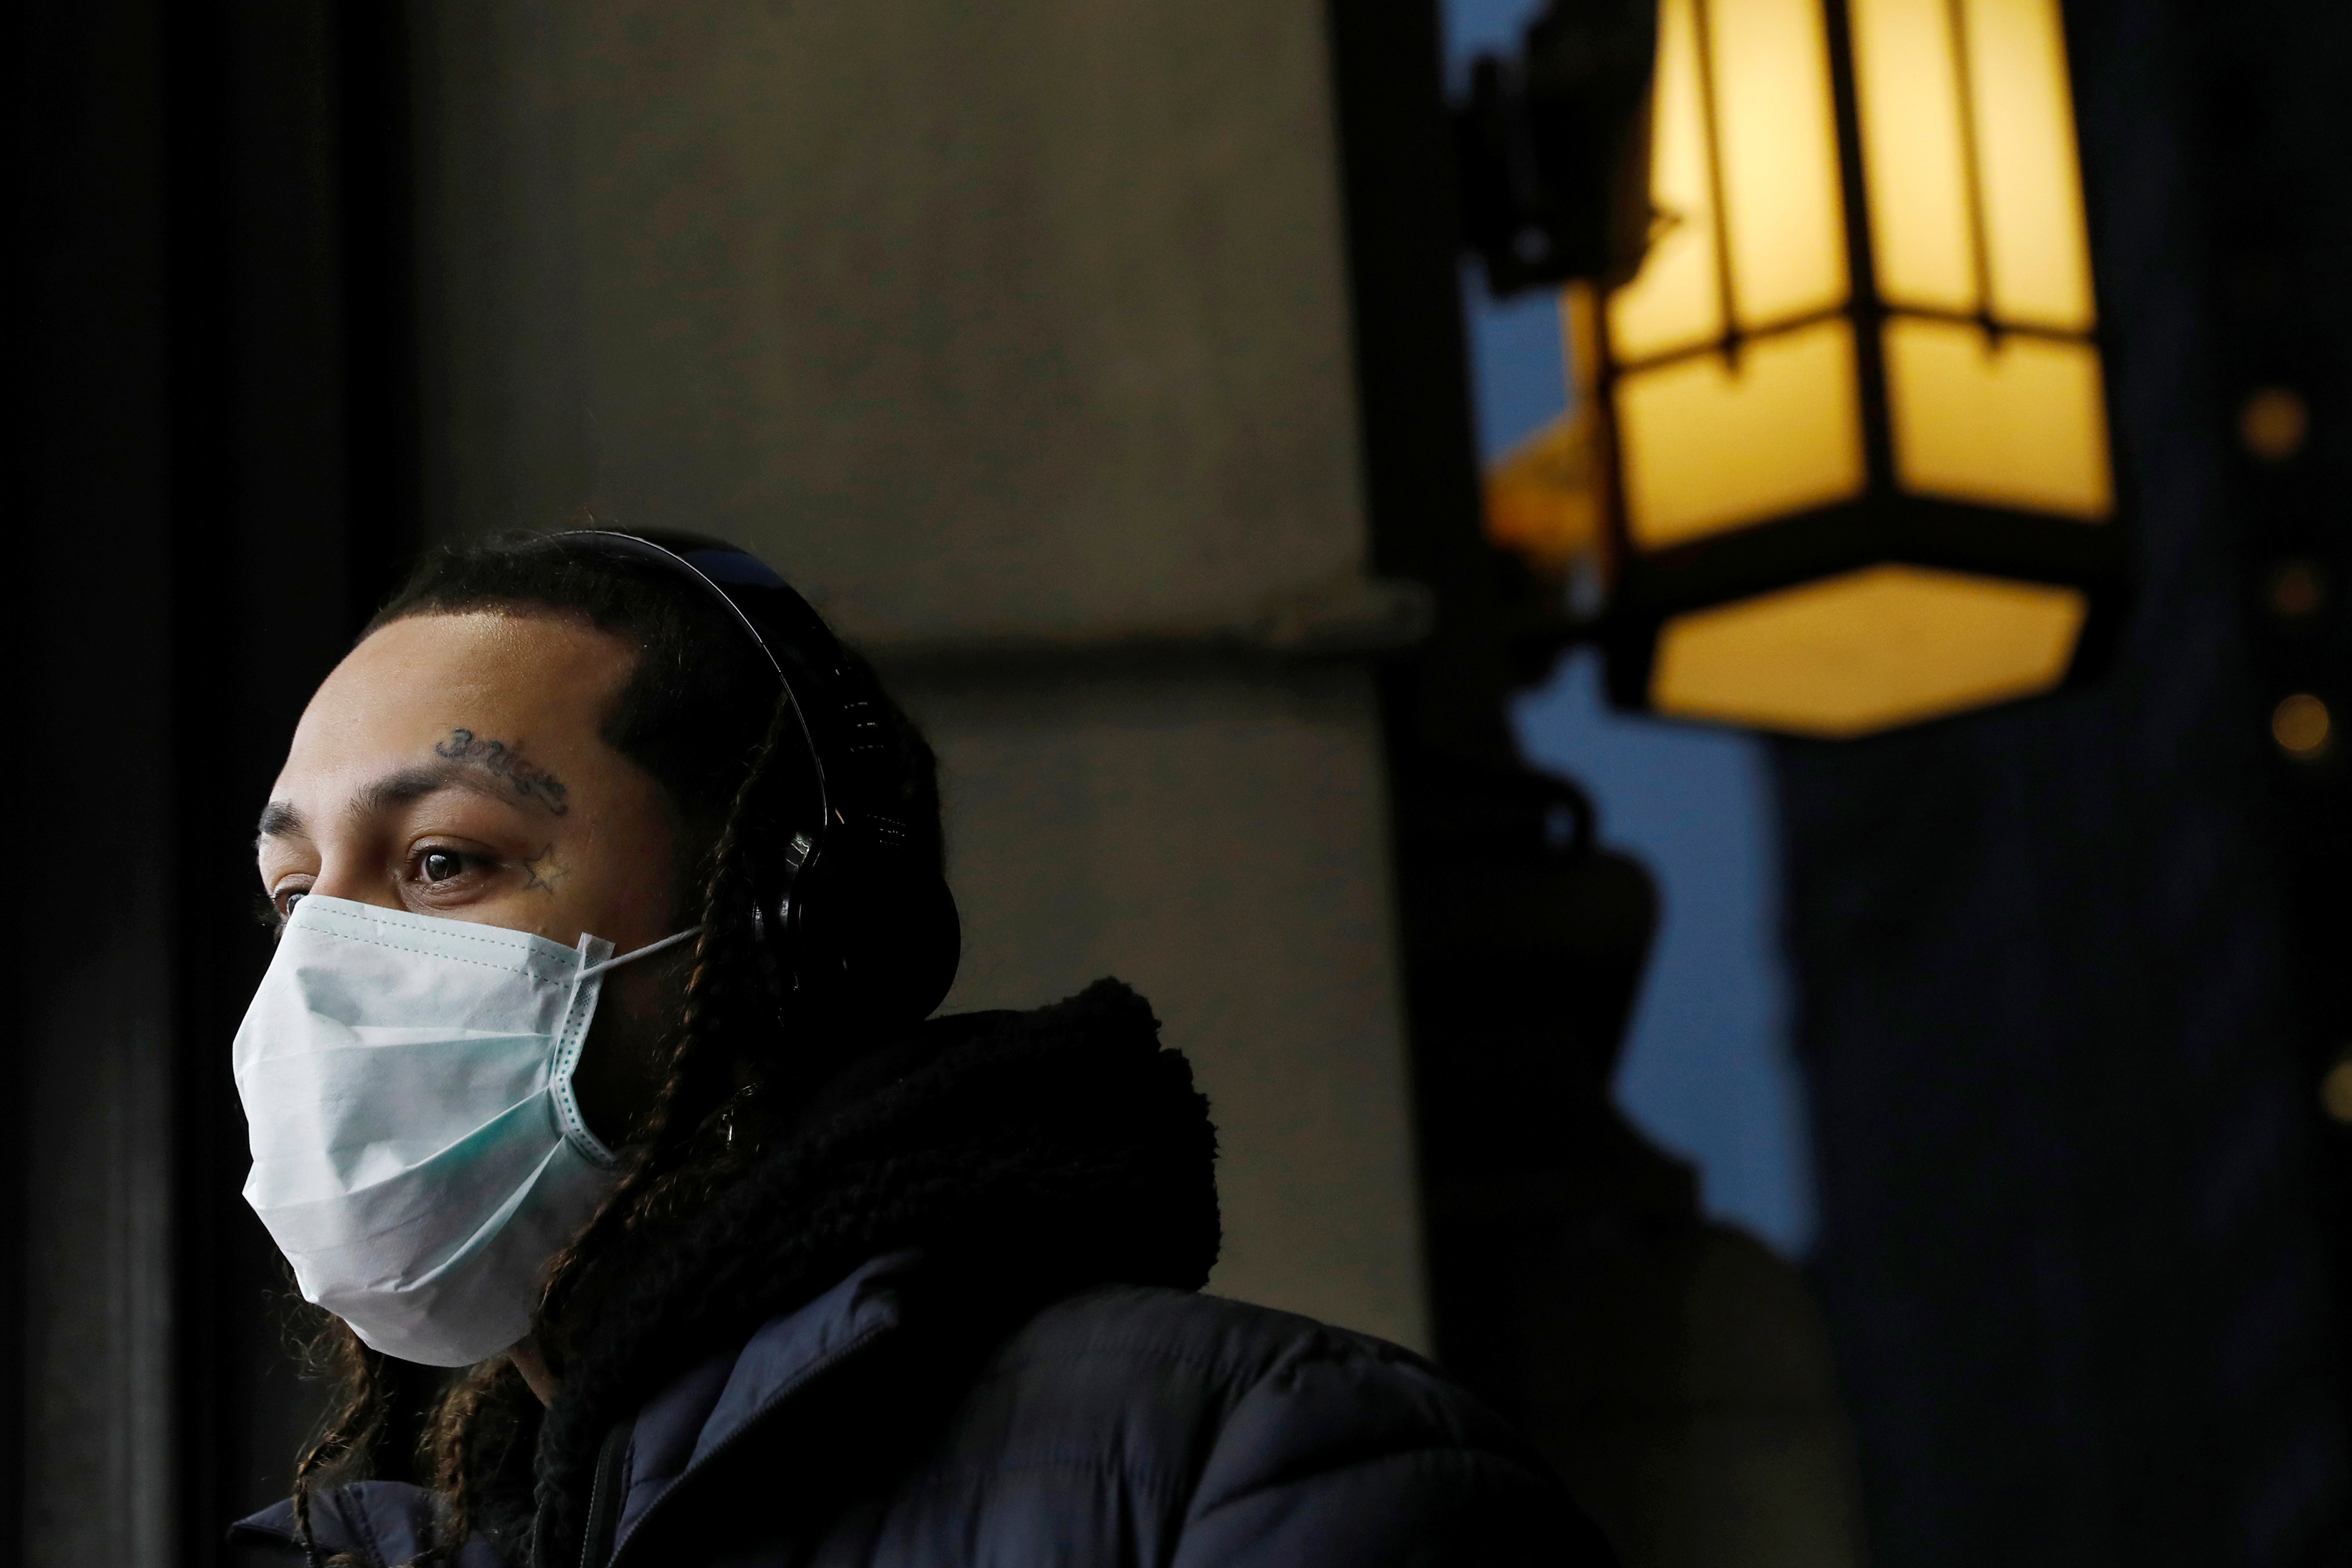mask: (149, 900, 705, 1354)
